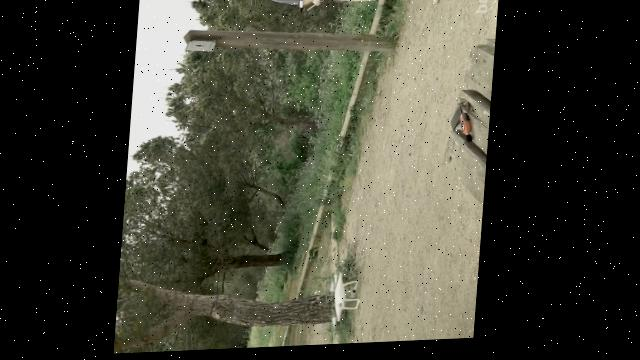drone: (330, 274, 365, 331)
